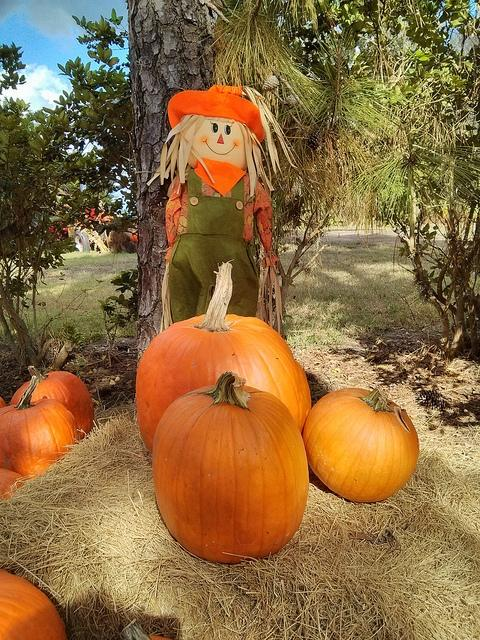pumpkin: (136, 258, 311, 454), (153, 370, 310, 564), (302, 388, 420, 502), (0, 375, 82, 479), (11, 366, 94, 434), (0, 568, 67, 640), (0, 468, 26, 499), (131, 230, 138, 243), (0, 398, 8, 408), (63, 227, 68, 232), (70, 194, 73, 198)
